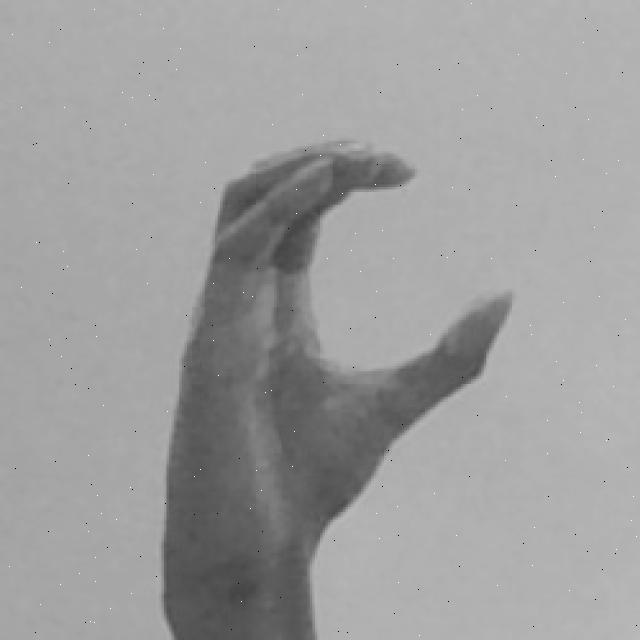C: (160, 141, 518, 640)
